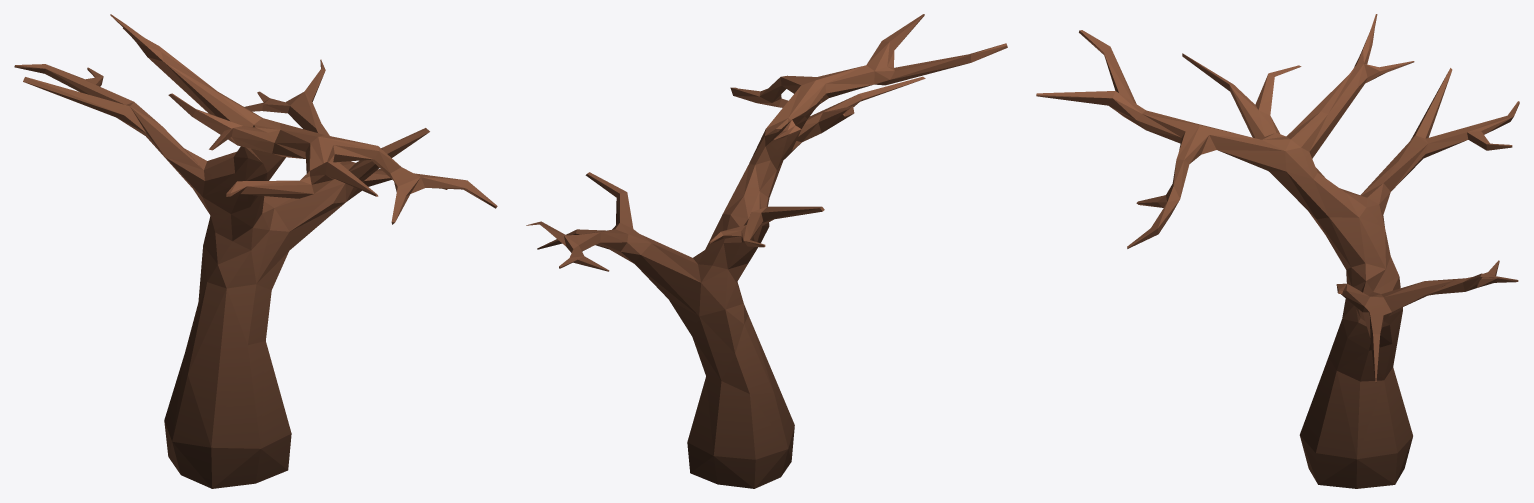
Rendered from dry tree.fbx.
The picture shows the model from 3 angles, left to right: view 1: azimuth 30°, elevation 25°; view 2: azimuth 150°, elevation 25°; view 3: azimuth 270°, elevation 25°; orthographic projection. The views are drawn at different scales.
Parts seen in each view (by area): view 1: dry tree; view 2: dry tree; view 3: dry tree.
Part boxes in pixels (bbox=[...]): dry tree: bbox=[14, 14, 497, 488]; dry tree: bbox=[526, 14, 1007, 488]; dry tree: bbox=[1036, 14, 1519, 488].
Bounding box in the file's own units: 742 × 851 × 911.
